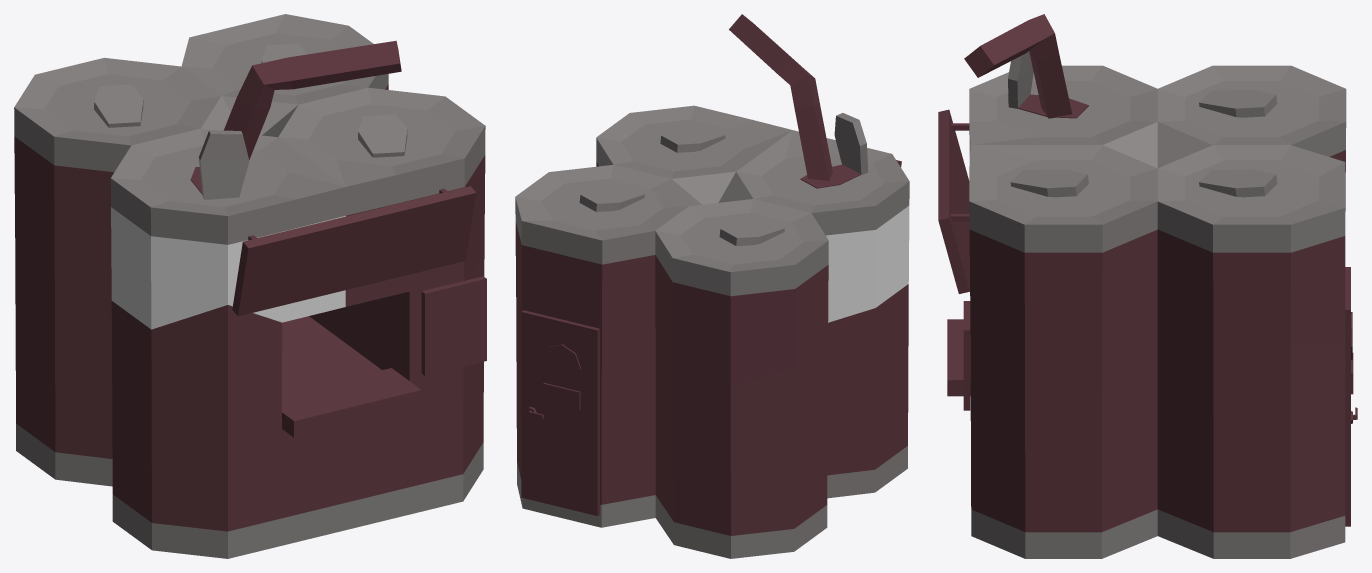
File: soda-stall.fbx
3 views of the same model, side by side, from view 1: azimuth 30°, elevation 25°; view 2: azimuth 150°, elevation 25°; view 3: azimuth 270°, elevation 25° (orthographic). The views are drawn at different scales.
Parts seen in each view (by area): view 1: soda-stall; view 2: soda-stall; view 3: soda-stall.
Part boxes in pixels (x1,y1,x2,y2): soda-stall: (14,14,486,558); soda-stall: (515,14,909,558); soda-stall: (938,14,1357,558).
Bounding box in the file's own units: 2.99 × 4.03 × 3.32.
